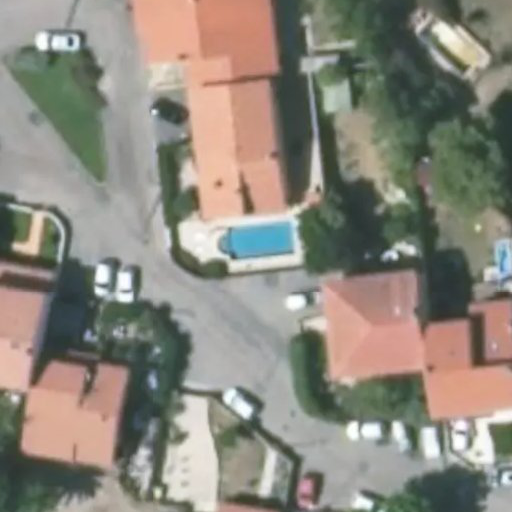pool: (212, 228, 297, 256)
